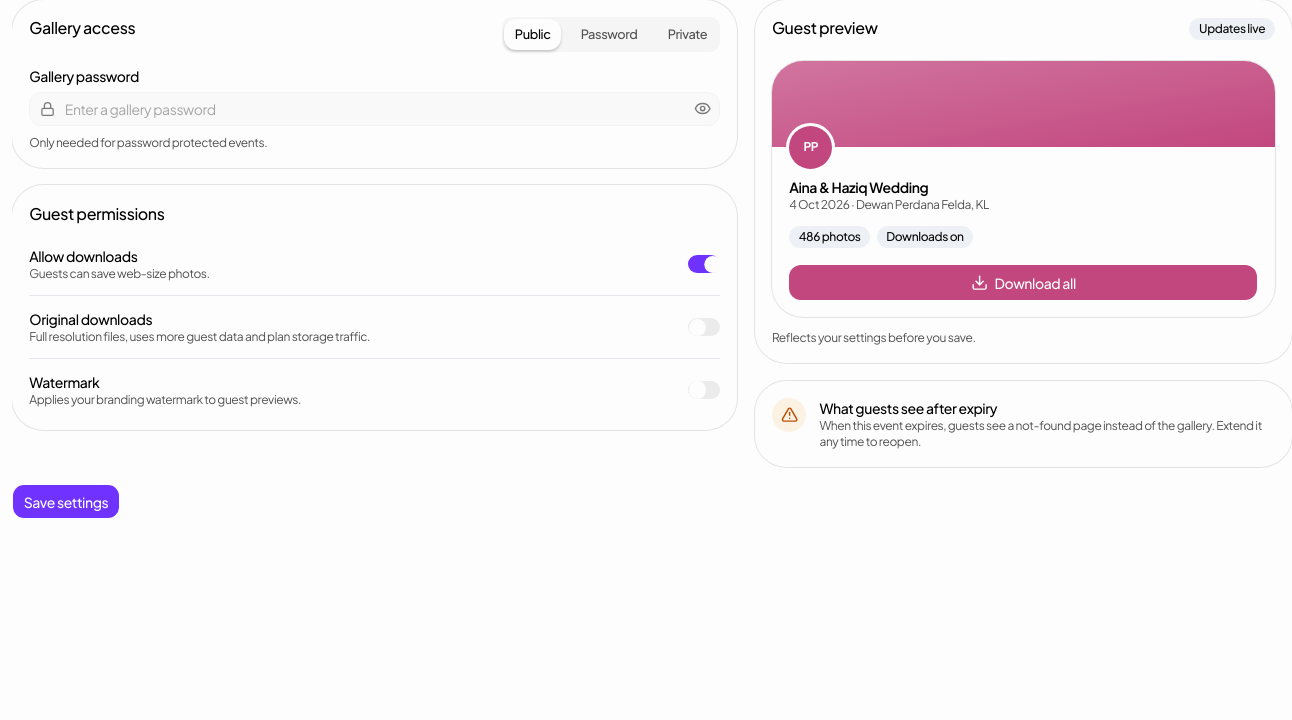
Test case: EventSettingsForm › enables the password field in password mode and requires it
What coordinates should you click on to do the following:
click the button "Password"
I would click on:
 (609, 34)
Its box is x1=570 y1=19 x2=648 y2=50.
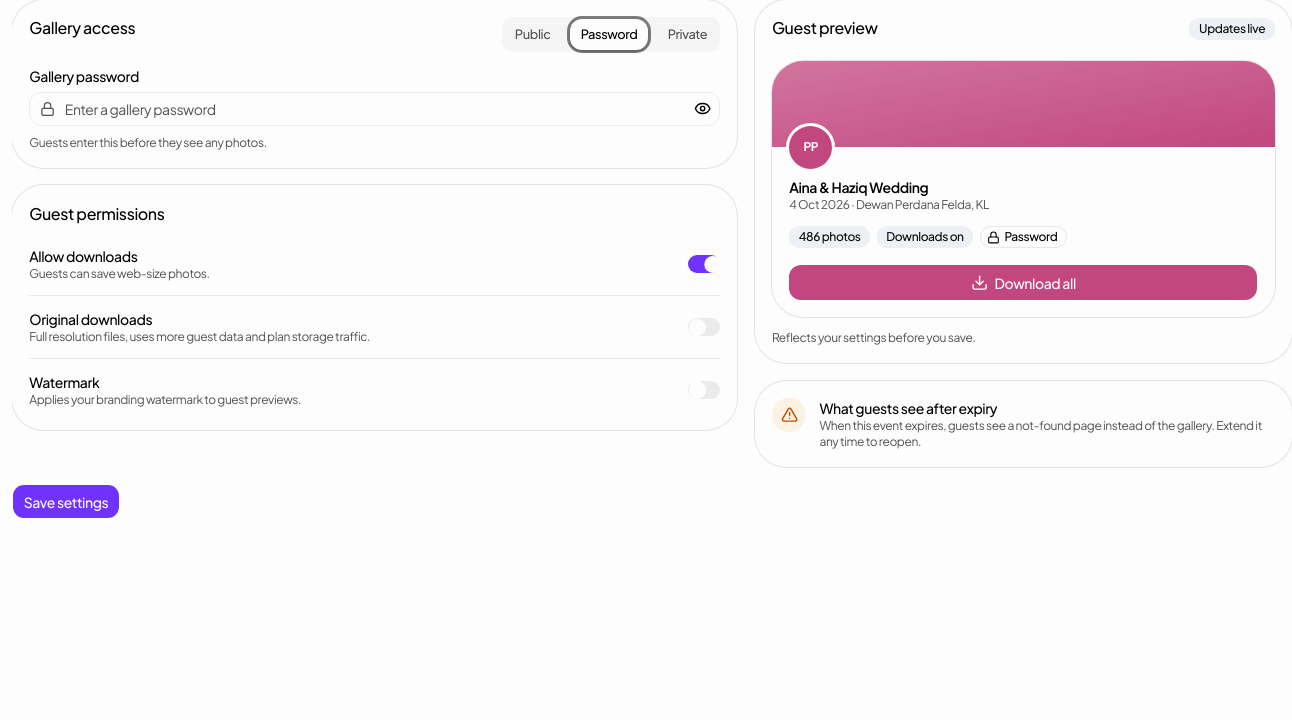
Expected: the password field labelled "Gallery password" is enabled, x1=29 y1=92 x2=720 y2=126
What coordinates should you click on to do the following:
click the button "Save settings"
I would click on:
 (66, 502)
Its box is x1=12 y1=484 x2=120 y2=519.
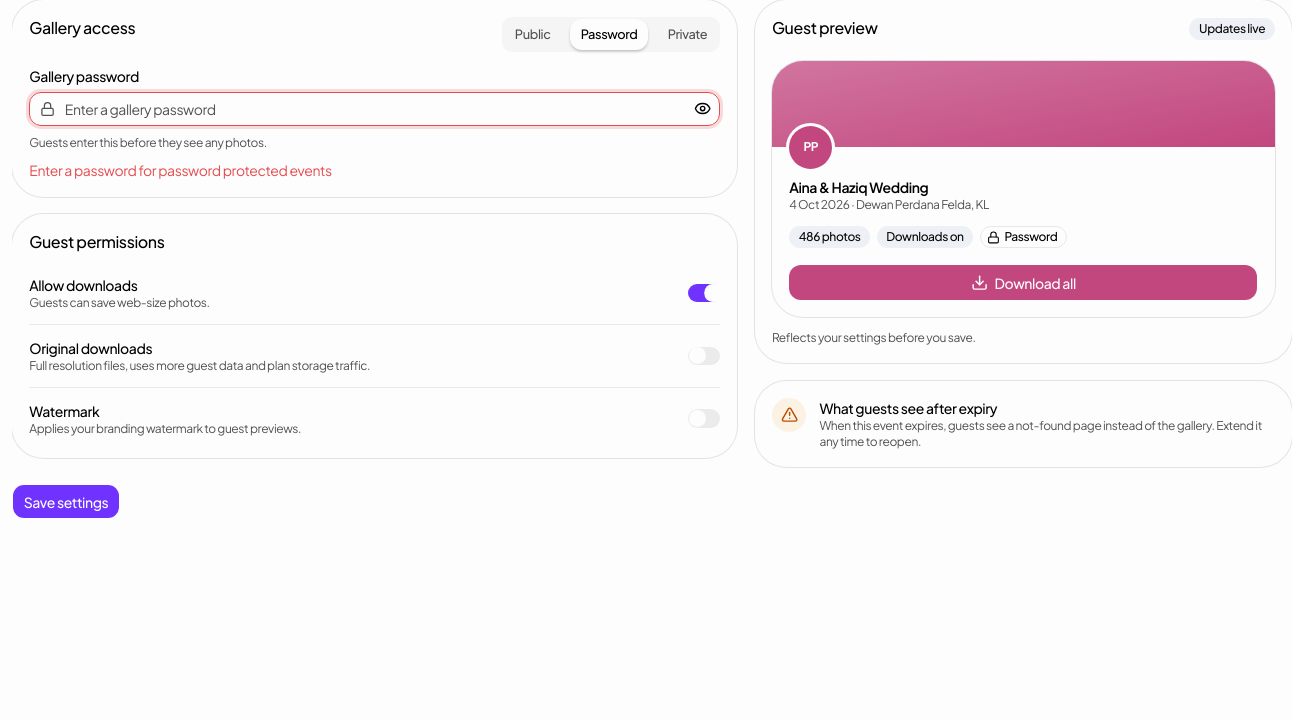
Expected: the text "Enter a password for password protected events" is shown, x1=29 y1=160 x2=332 y2=178
